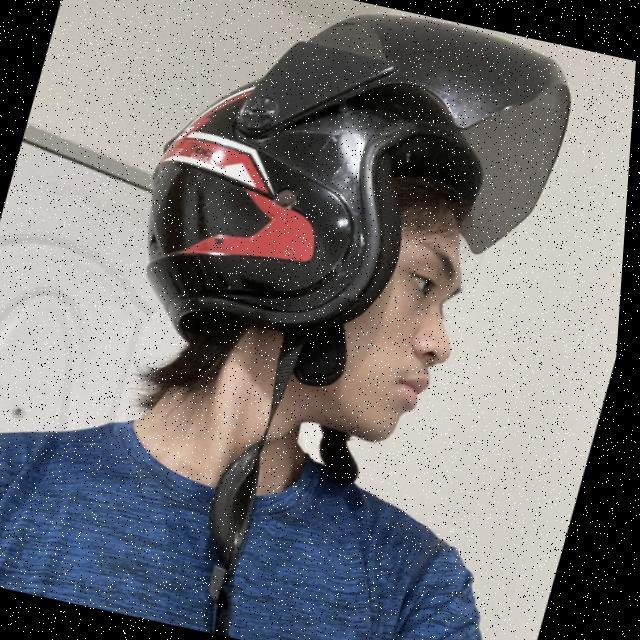illegal_helmet: (29, 0, 598, 640)
